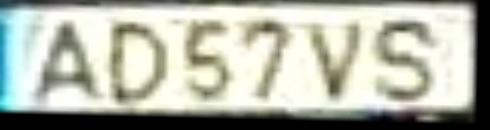5: (177, 18, 238, 105)
7: (238, 18, 295, 104)
A: (25, 19, 109, 105)
D: (106, 20, 174, 107)
S: (365, 16, 443, 104)
V: (300, 19, 372, 107)
